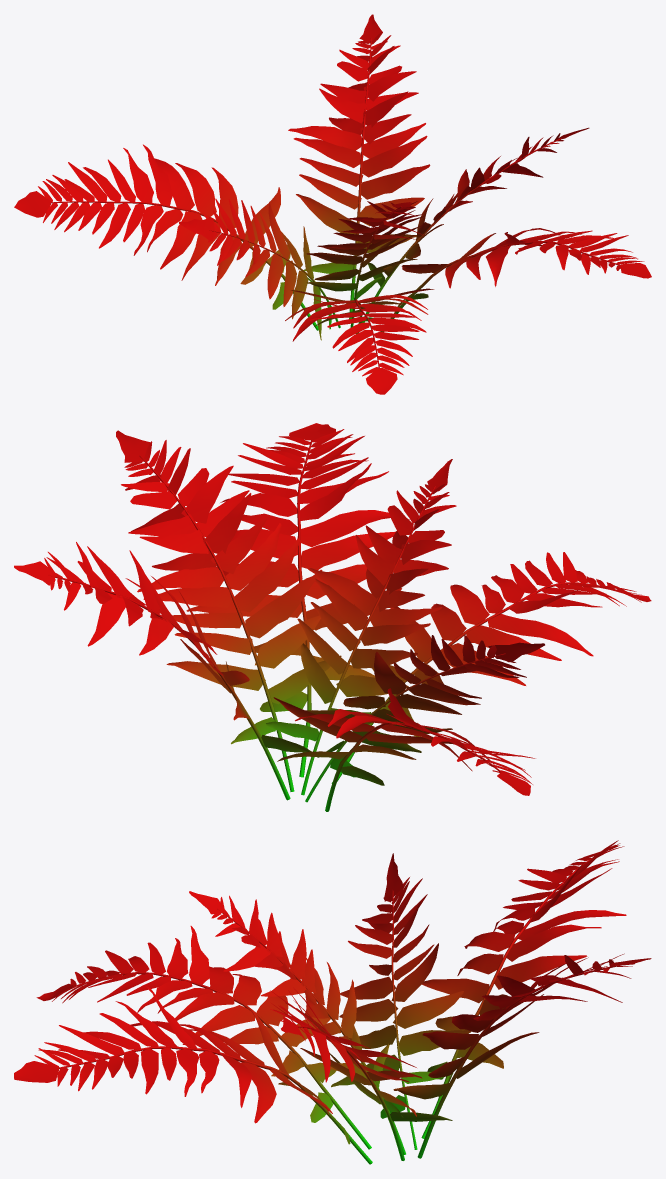
Rendered from Silvery Glade Fern_LOD1_Var7_xf5lebcqx.fbx.
3 renders of one model, top to bottom at view 1: azimuth 30°, elevation 25°; view 2: azimuth 150°, elevation 25°; view 3: azimuth 270°, elevation 25°, orthographic. The views are drawn at different scales.
Visible parts, largest first — view 1: _yodz_Var7_LOD1; view 2: _yodz_Var7_LOD1; view 3: _yodz_Var7_LOD1.
Part boxes in pixels (<box>): _yodz_Var7_LOD1: <box>14,14,651,394</box>; _yodz_Var7_LOD1: <box>14,423,651,811</box>; _yodz_Var7_LOD1: <box>14,840,651,1164</box>.
Size of the model in its own units: 62.7 by 29.09 by 62.19.
